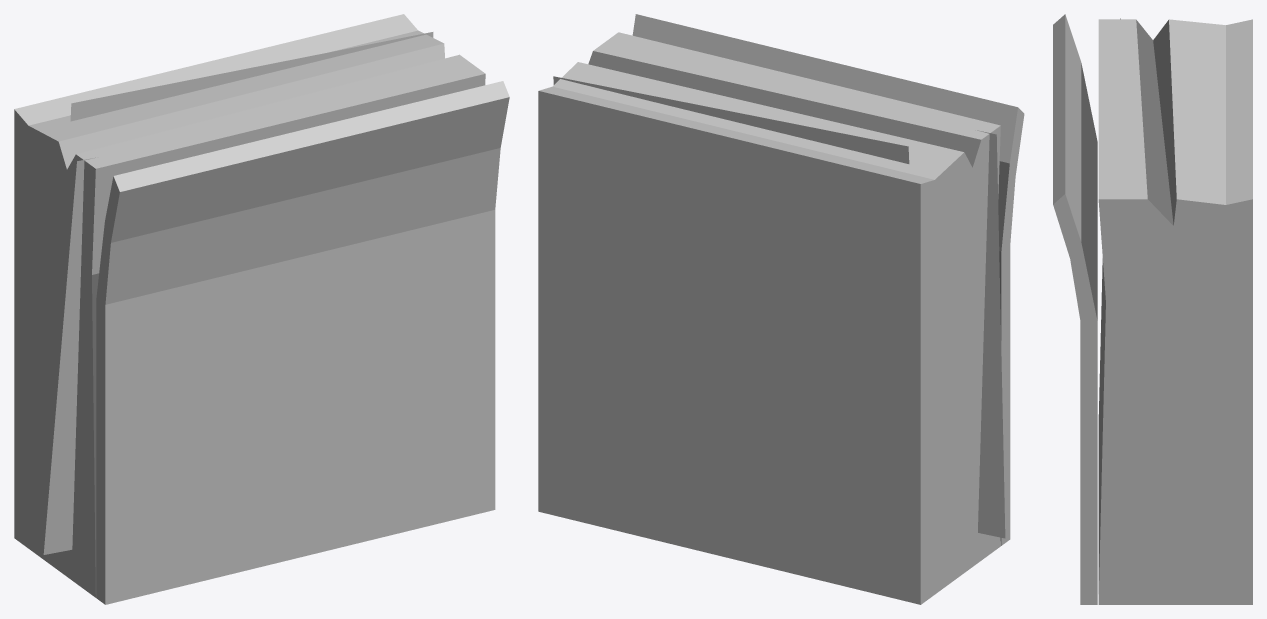
Rendered from napkin.fbx.
3 renders of one model, left to right at view 1: azimuth 30°, elevation 25°; view 2: azimuth 150°, elevation 25°; view 3: azimuth 270°, elevation 25°, orthographic. The views are drawn at different scales.
Parts seen in each view (by area): view 1: napkin; view 2: napkin; view 3: napkin.
Boxes of the visible parts, x1,y1,x2,y2 form: napkin: (14, 14, 509, 604); napkin: (538, 14, 1024, 604); napkin: (1053, 14, 1252, 604).
Bounding box in the file's own units: 7.1 × 7.06 × 3.06.
